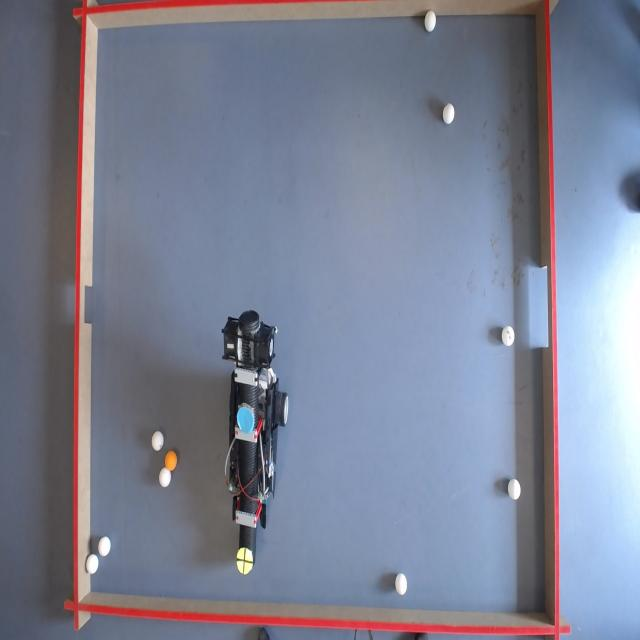orange: (167, 452, 178, 468)
robot: (221, 315, 289, 580)
robot-front: (236, 548, 254, 579)
robot-rear: (237, 405, 256, 434)
white: (510, 480, 524, 502), (424, 10, 438, 31), (395, 574, 408, 596), (444, 104, 457, 125), (88, 555, 101, 575), (151, 432, 164, 451), (100, 536, 112, 556), (503, 326, 515, 346), (161, 470, 173, 489)
